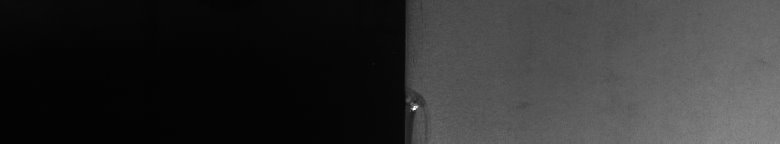hb: (416, 84, 431, 134)
